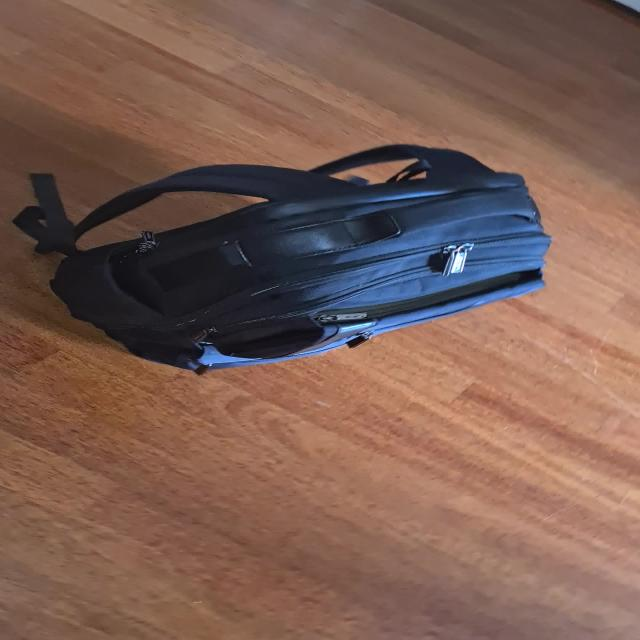backpack: (34, 135, 568, 372)
